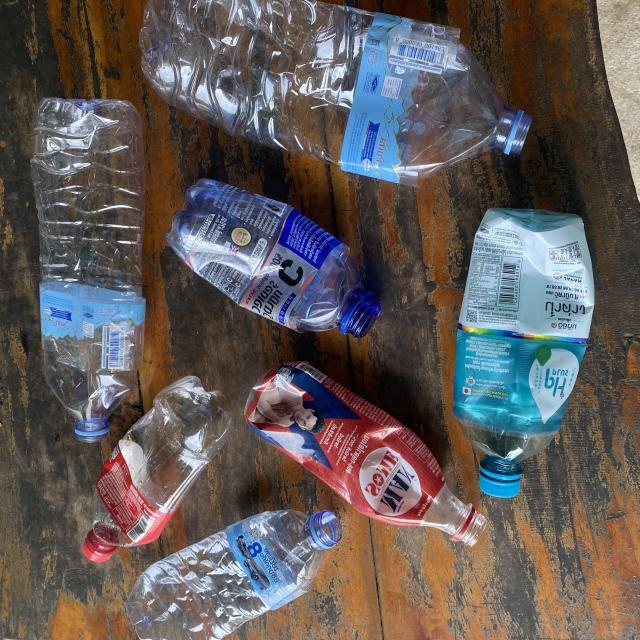plastik: (140, 0, 531, 186), (245, 362, 487, 546), (453, 208, 594, 498), (31, 97, 146, 442), (166, 180, 382, 337), (126, 509, 341, 640), (83, 376, 232, 563)
